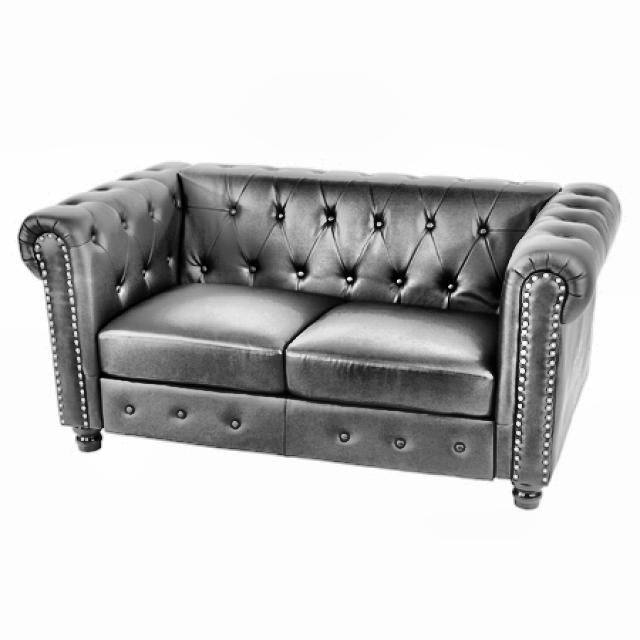sofa: (16, 159, 622, 509)
